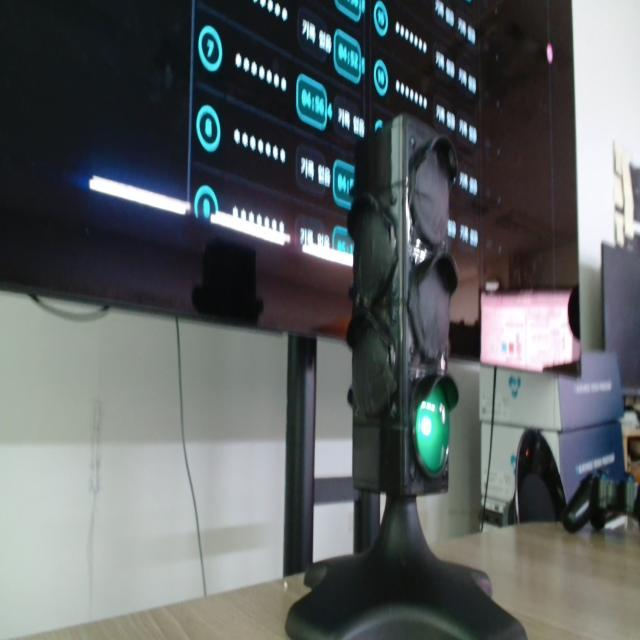green_light: (415, 384, 450, 475)
